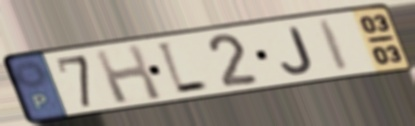2: (207, 32, 264, 90)
7: (53, 53, 94, 110)
H: (90, 41, 166, 106)
I: (315, 16, 353, 74)
J: (279, 24, 316, 76)
L: (153, 40, 212, 98)
